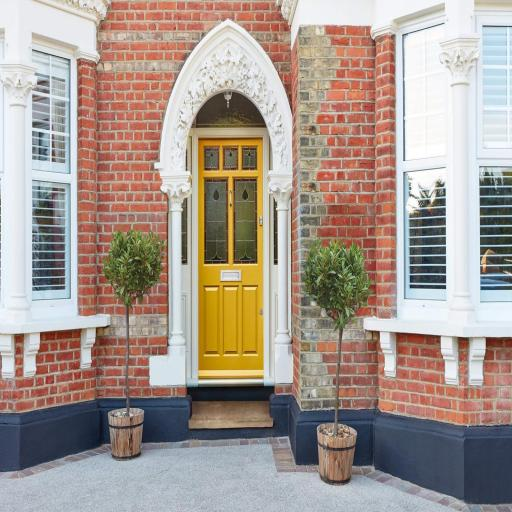door: (192, 134, 266, 436)
